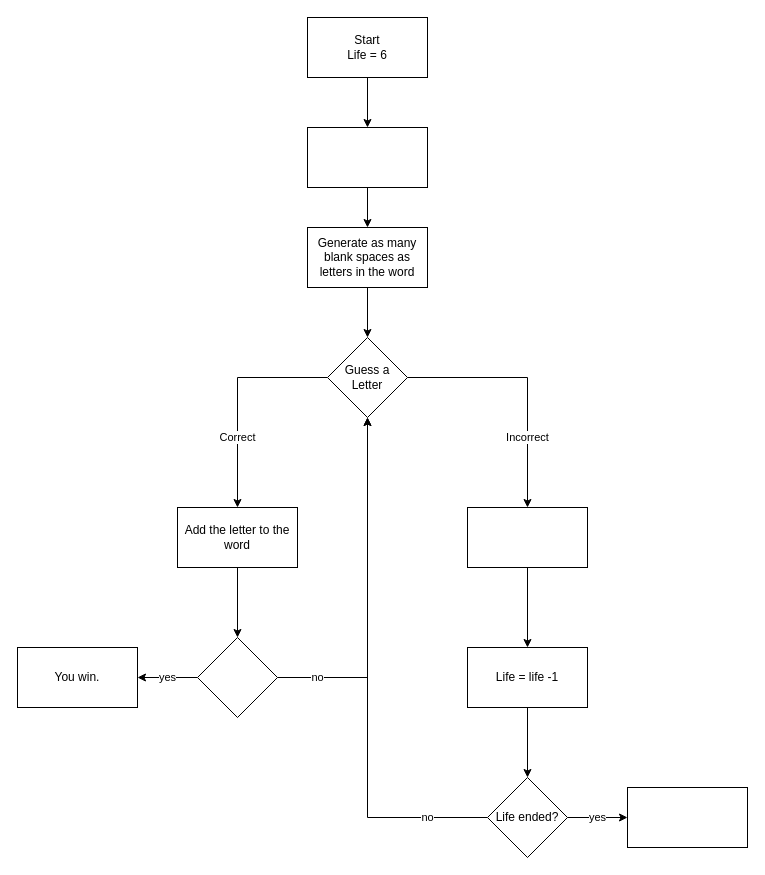
The diagram is 765 pixels wide and 875 high, and some of its shapes have lost their labels. Each missing label, with the centre of its shape:
Generate a random word: point 367,157
word complete?: point 237,677
You guessed <letter>, that's not in the word. You lose a life.: point 527,537
You lose.: point 687,817
